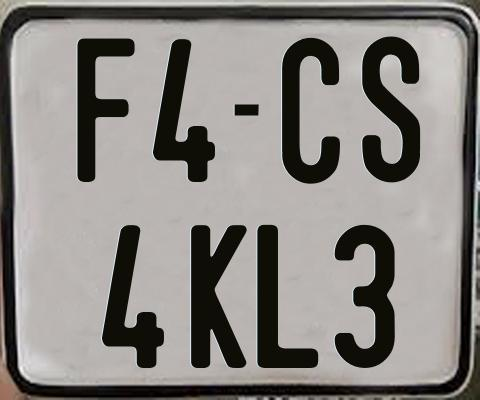3: (335, 225, 396, 371)
4: (102, 225, 169, 372), (153, 37, 216, 183)
C: (280, 37, 343, 188)
F: (76, 37, 136, 184)
K: (188, 225, 249, 373)
L: (257, 225, 322, 373)
S: (360, 36, 424, 183)
